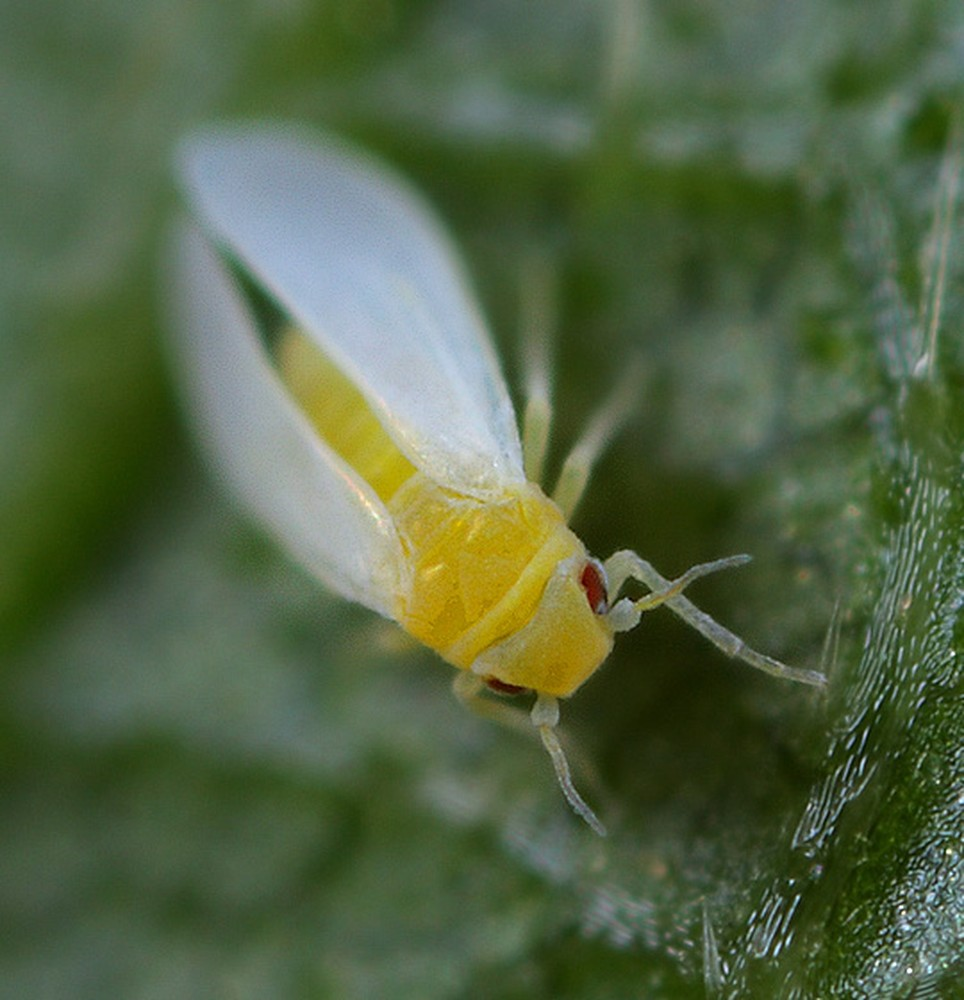Mosca Blanca: (137, 115, 840, 816)
